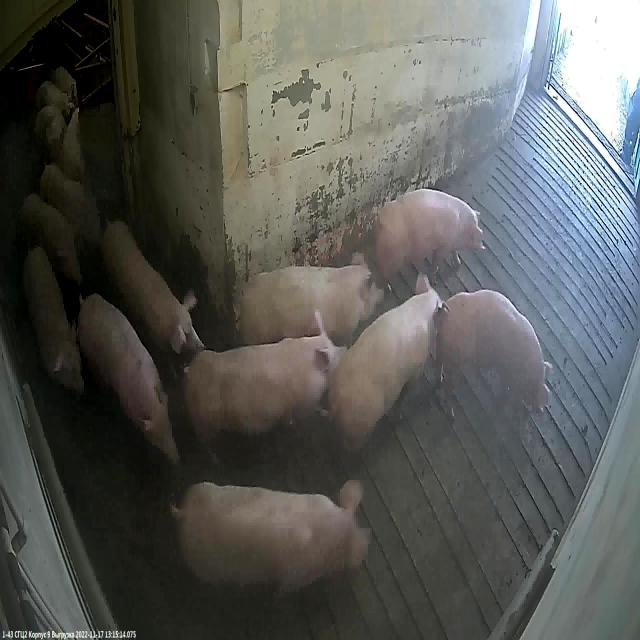pig: (172, 482, 369, 603), (326, 286, 444, 487), (186, 333, 346, 454), (76, 295, 178, 466), (102, 221, 204, 366), (240, 257, 381, 357), (443, 290, 548, 411), (376, 191, 482, 301), (22, 247, 85, 397), (20, 193, 80, 287)
